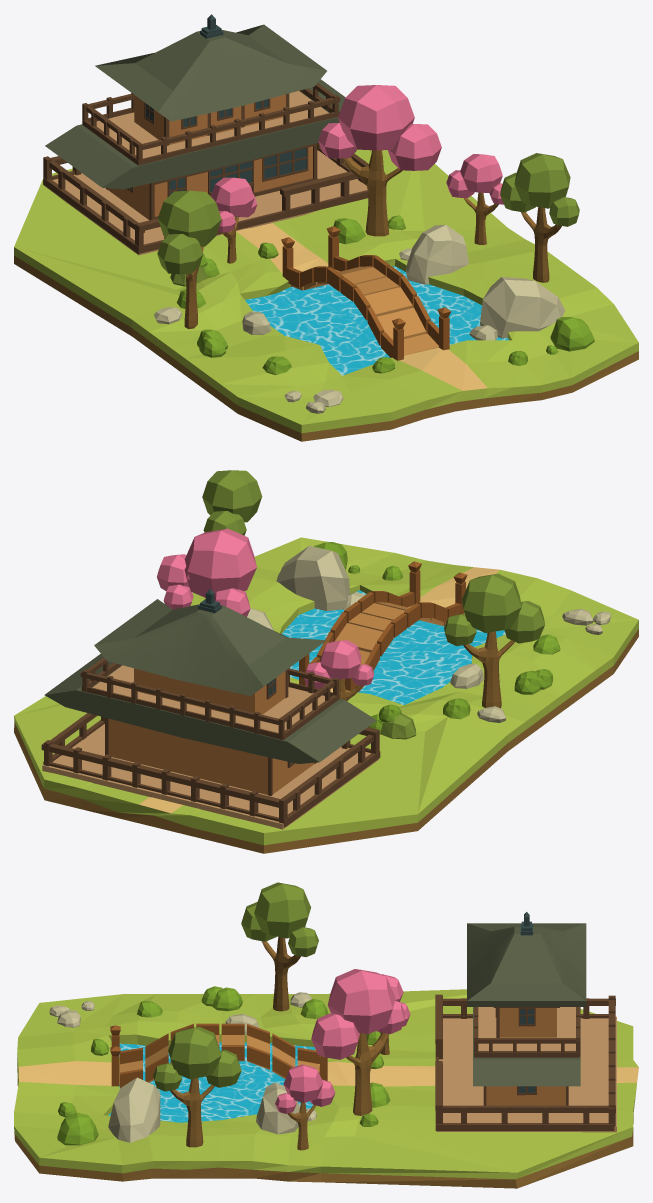
3 renders of one model, top to bottom at view 1: azimuth 30°, elevation 25°; view 2: azimuth 150°, elevation 25°; view 3: azimuth 270°, elevation 25°, orthographic. The views are drawn at different scales.
Visible parts, largest first — view 1: Plane, Cube, Plane.001, Cube.003, Cube.058, Cube.005, Cube.070, Plane.008, Cube.055, Cube.094, Cube.026, Cube.066 (+26 smaller); view 2: Plane, Cube, Cube.003, Plane.001, Cube.004, Cube.005, Cube.058, Cube.070, Cube.094, Cube.001, Cube.002, Cube.066 (+20 smaller); view 3: Plane, Cube, Cube.005, Plane.001, Cube.003, Cube.058, Cube.070, Cube.094, Cube.066, Plane.011, Cube.002, Cube.060 (+25 smaller).
Boxes of the visible parts, x1,y1,x2,y2 form: Plane: (14,149,638,441); Cube: (95,24,326,121); Plane.001: (245,266,508,375); Cube.003: (45,79,345,189); Cube.058: (338,85,414,150); Cube.005: (43,150,367,255); Cube.070: (480,277,564,338); Plane.008: (291,266,438,355); Cube.055: (406,224,468,284); Cube.094: (157,190,221,246); Cube.026: (43,148,368,253); Cube.066: (514,153,570,208); Plane: (14,537,638,853); Cube: (94,599,326,695); Cube.003: (44,654,376,763); Plane.001: (282,590,505,705); Cube.004: (108,718,314,794); Cube.005: (42,724,378,829); Cube.058: (184,528,256,596); Cube.070: (276,546,350,610); Cube.094: (462,573,521,632); Cube.001: (134,668,285,719); Cube.002: (92,665,324,732); Cube.066: (202,470,262,522); Plane: (14,989,638,1188); Cube: (467,923,586,1006); Cube.005: (436,1016,616,1132); Plane.001: (108,1042,314,1122); Cube.003: (473,1007,580,1086); Cube.058: (327,969,395,1034); Cube.070: (108,1077,160,1142); Cube.094: (254,882,311,938); Cube.066: (168,1026,221,1079); Plane.011: (120,1023,319,1064); Cube.002: (478,1007,575,1050); Cube.060: (311,1013,359,1059).
Size of the model in its own units: 11.63 by 5.8 by 16.57.
Materials: 16 (1 with a texture image).
